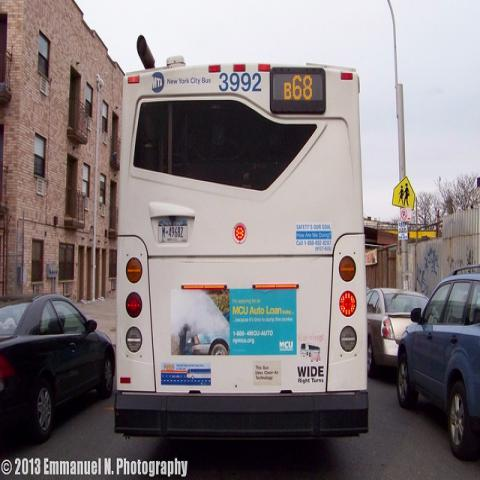bus: (115, 62, 370, 440)
car: (1, 294, 115, 443), (397, 264, 479, 460), (366, 287, 429, 376)
